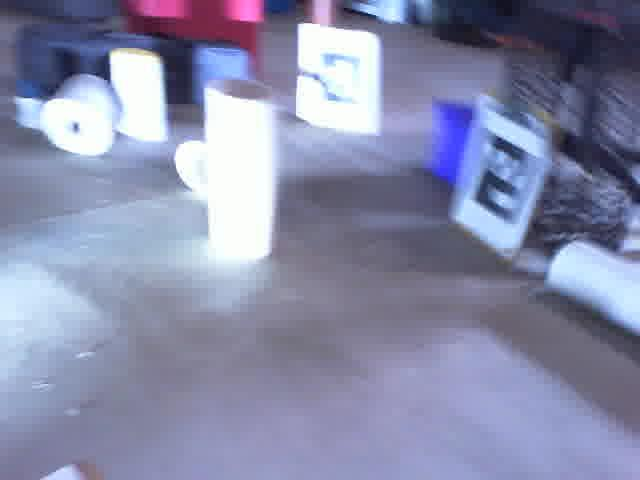coral: (202, 76, 290, 274), (542, 240, 640, 339), (169, 134, 213, 205)
